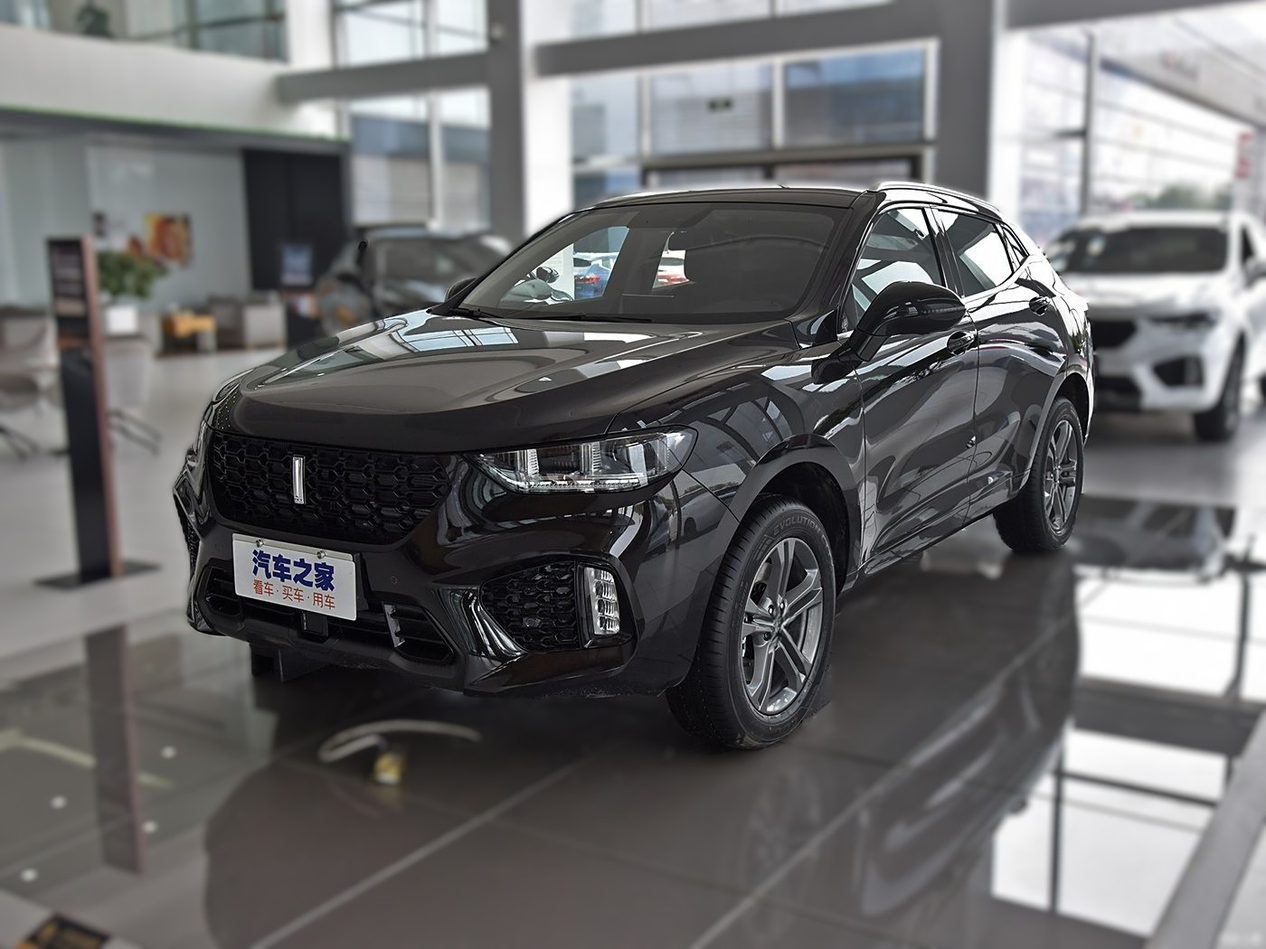WEY: (294, 458, 303, 503)
